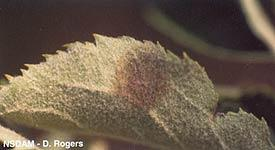Apple Scab Leaf: (2, 19, 275, 147)
